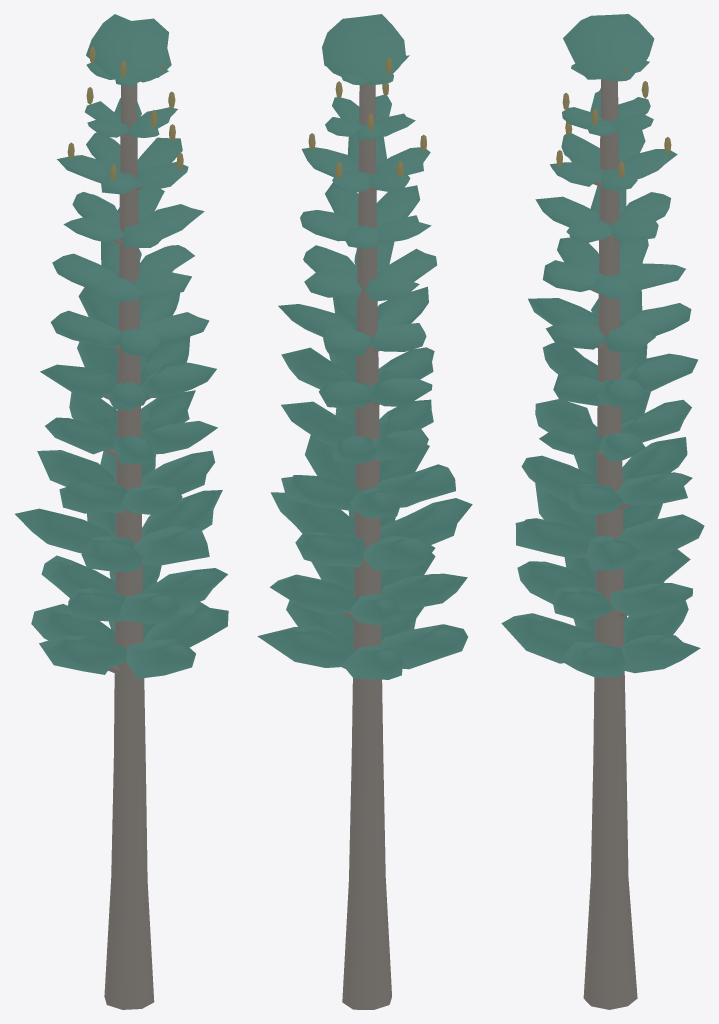
The model's file is Blender_NobleFir_1.glb.
The picture shows the model from 3 angles, left to right: view 1: azimuth 30°, elevation 25°; view 2: azimuth 150°, elevation 25°; view 3: azimuth 270°, elevation 25°; orthographic projection.
Parts seen in each view (by area): view 1: Blender_NobleFir_1; view 2: Blender_NobleFir_1; view 3: Blender_NobleFir_1.
Boxes of the visible parts, x1,y1,x2,y2 form: Blender_NobleFir_1: (15,14,228,1009); Blender_NobleFir_1: (257,14,472,1009); Blender_NobleFir_1: (501,14,704,1009).
Bounding box in the file's own units: 6.5 × 32.68 × 6.14.
